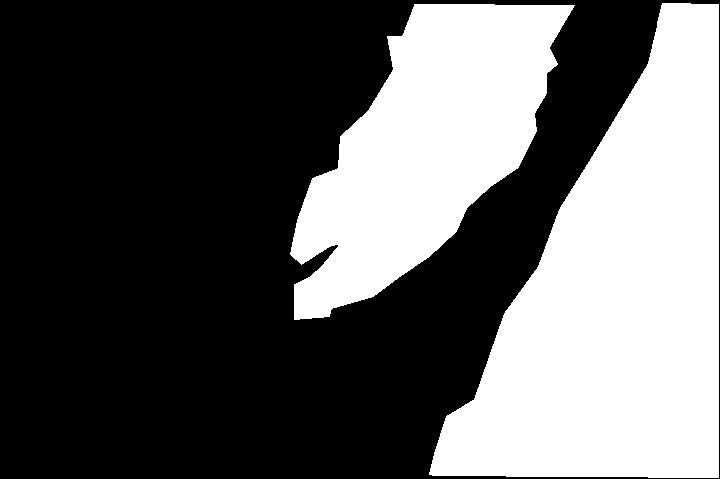fire: (307, 117, 514, 282), (387, 8, 590, 98)
